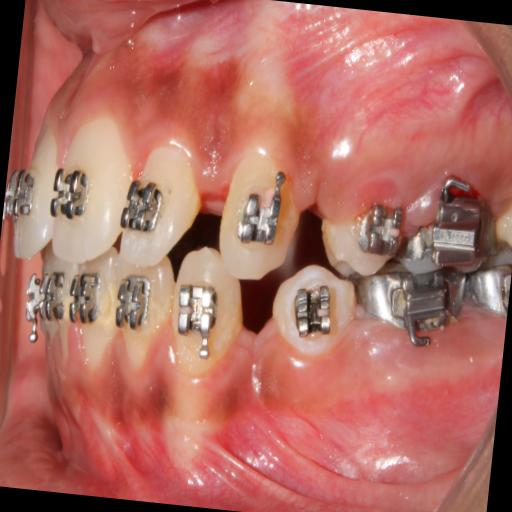correct_brace: (268, 262, 360, 363), (316, 198, 408, 286), (234, 166, 288, 254), (48, 152, 92, 231), (120, 176, 166, 240), (292, 282, 336, 344)
incorrect_brace: (116, 137, 210, 274), (354, 208, 402, 258)
